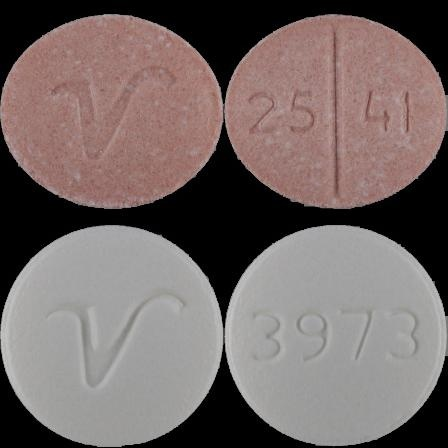68788-9535: (0, 0, 224, 224)
